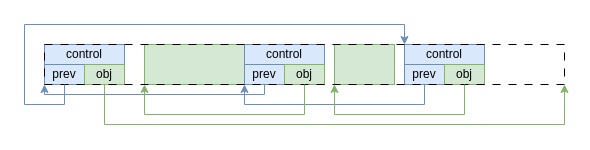
Some shapes in this 590 by 150 pixel diagram are drawn without their labels. Here are the shapes that lost their labels. From the top down, the box of each, then its label:
(144, 44, 244, 84): Object 1
(334, 44, 394, 84): Object 2
